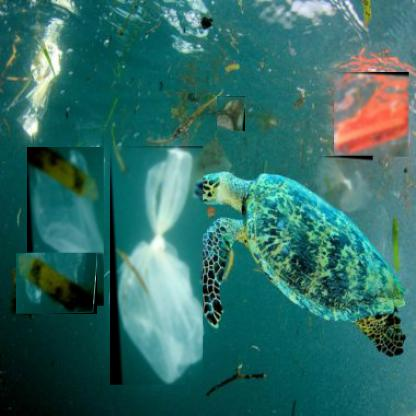plastic-bag: (110, 146, 204, 386), (27, 147, 105, 307), (317, 156, 374, 212)
waste: (334, 72, 410, 158), (16, 253, 98, 315), (217, 96, 246, 132)
